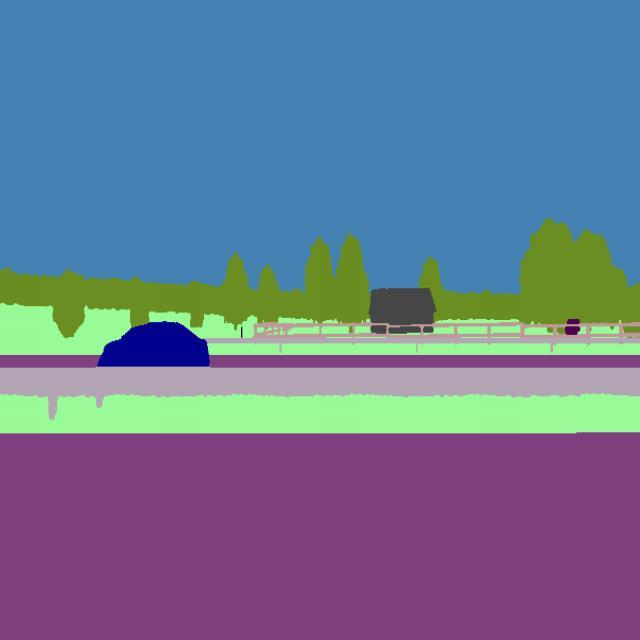safe: (94, 315, 214, 374)
